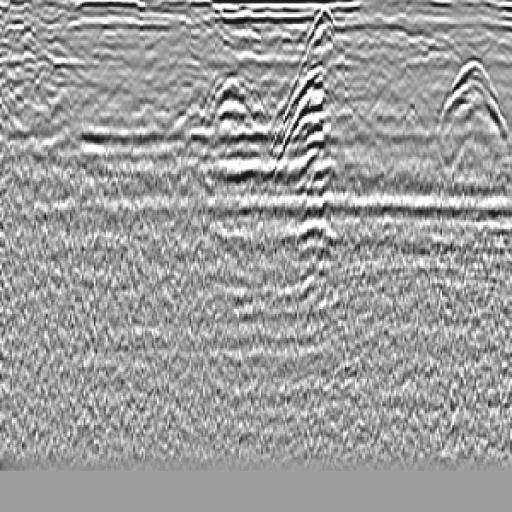metalic: (274, 1, 374, 319)
nonmetalic: (422, 41, 512, 178), (190, 60, 270, 142)
